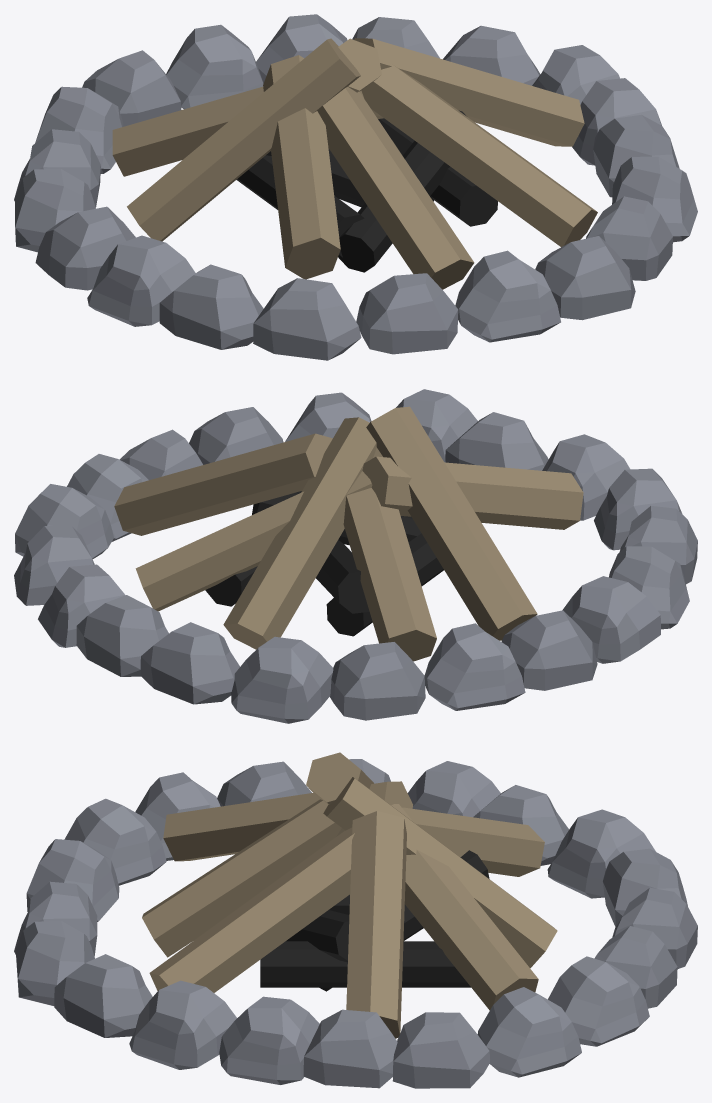
File: Fogueira.fbx
3 views of the same model, one above another, from view 1: azimuth 30°, elevation 25°; view 2: azimuth 150°, elevation 25°; view 3: azimuth 270°, elevation 25° (orthographic). The views are drawn at different scales.
Parts seen in each view (by area): view 1: Fogueira; view 2: Fogueira; view 3: Fogueira.
Boxes of the visible parts, x1,y1,x2,y2 form: Fogueira: (14, 14, 697, 360); Fogueira: (14, 389, 697, 723); Fogueira: (14, 752, 697, 1088).
Bounding box in the file's own units: 1373 × 436 × 1379.
